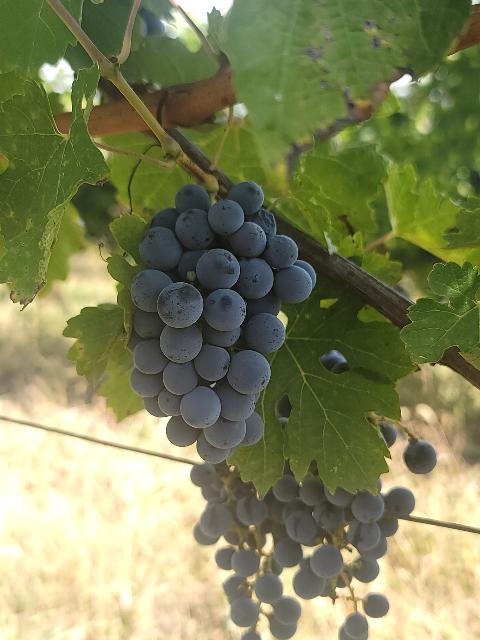grapes: (129, 181, 316, 464), (190, 461, 415, 640)
